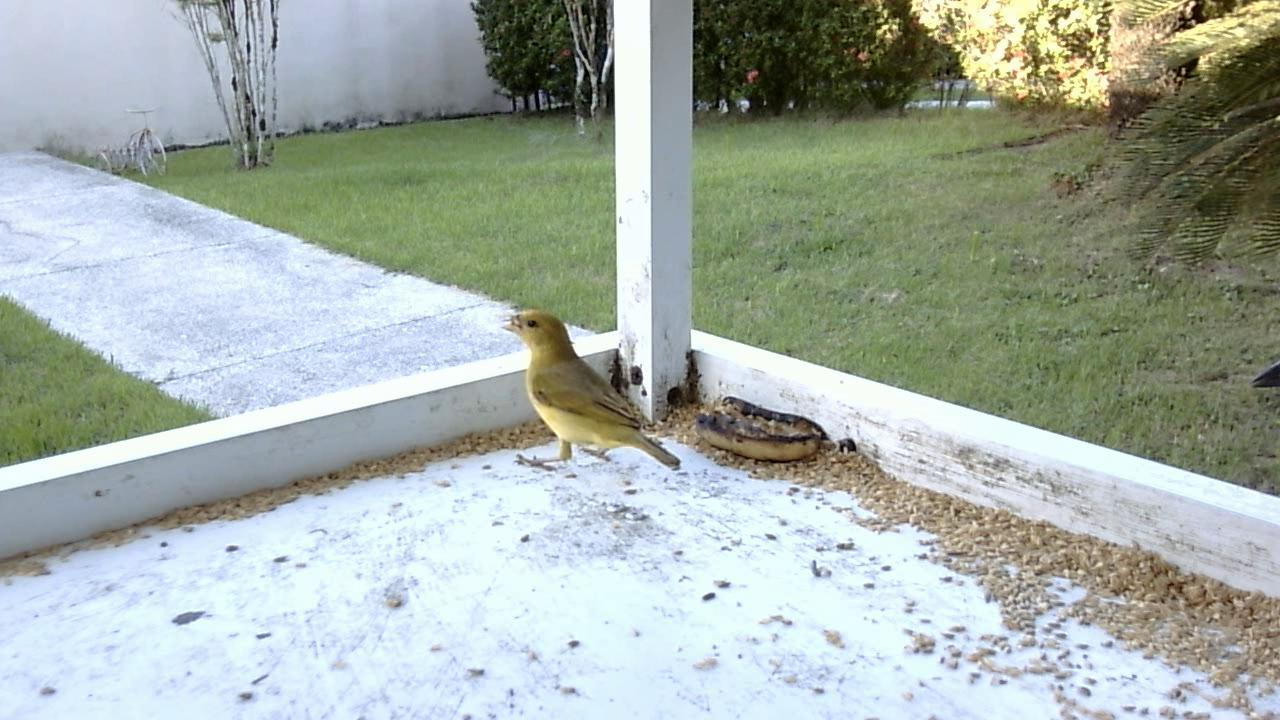canario_do_amazonas: (501, 308, 687, 472)
